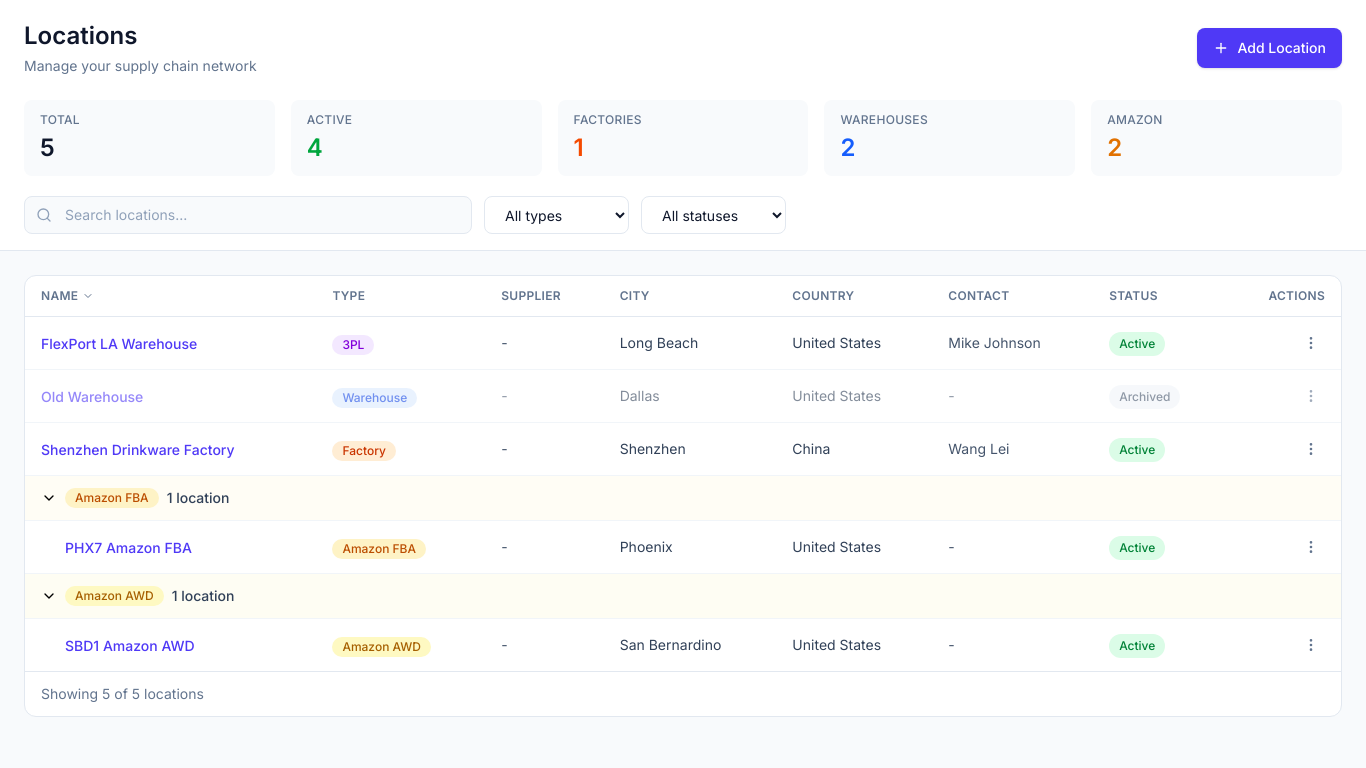
Test: Locations - Filter by Status › filters to show only active locations
Select "Active only" in the dropdown named "filter by status" at [714, 215], box [641,196,786,234]
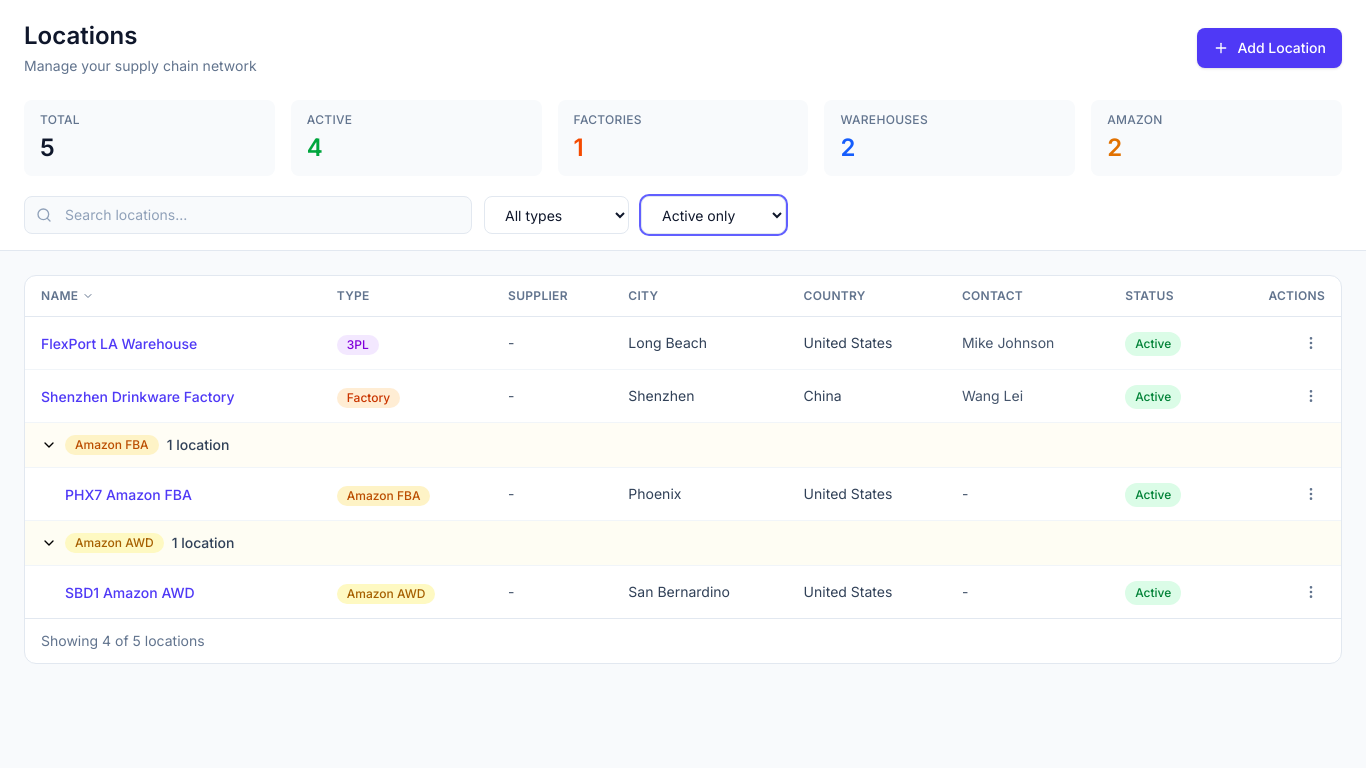
Expected: the button "Shenzhen Drinkware Factory" is shown, [41,387,234,407]
Result: the button "Old Warehouse" is gone
